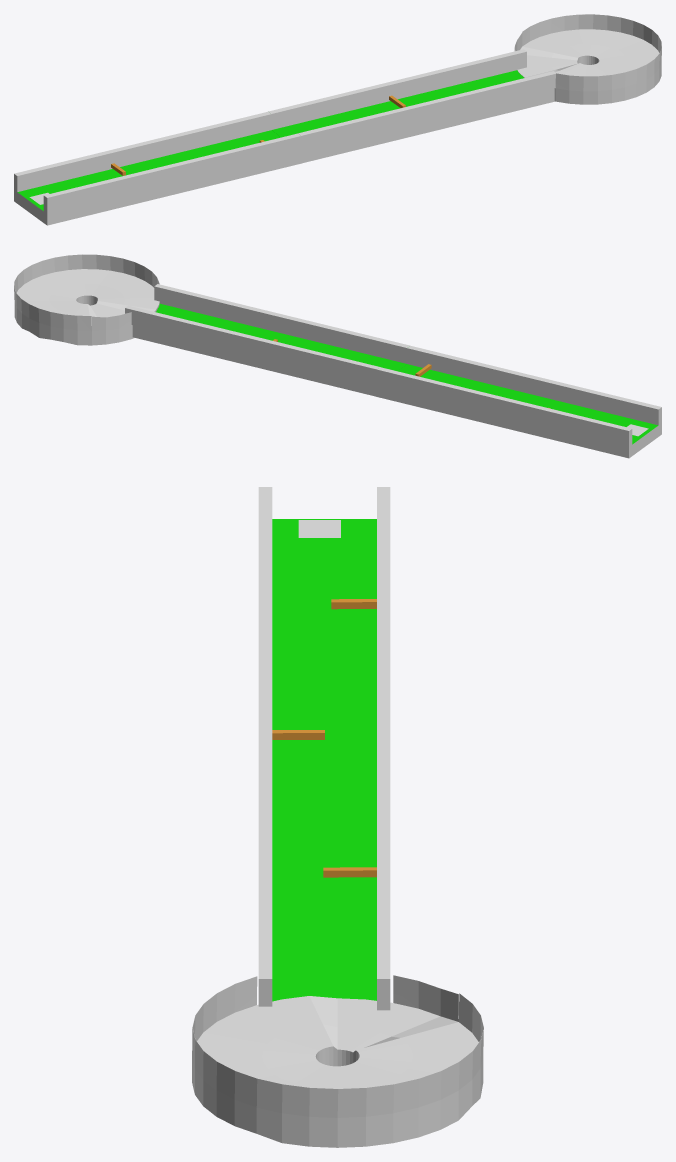
The model's file is Piste.4.fbx.
3 renders of one model, top to bottom at view 1: azimuth 30°, elevation 25°; view 2: azimuth 150°, elevation 25°; view 3: azimuth 270°, elevation 25°, orthographic. The views are drawn at different scales.
Parts seen in each view (by area): view 1: Cube.001, Cube, Cylinder; view 2: Cube.001, Cube, Cylinder; view 3: Cylinder, Cube, Cube.001.
Part boxes in pixels (x1,y1,x2,y2): Cube.001: (14, 111, 302, 225); Cube: (268, 49, 555, 162); Cylinder: (514, 14, 661, 104); Cube.001: (377, 345, 661, 458); Cube: (125, 284, 409, 396); Cylinder: (14, 254, 159, 345); Cylinder: (192, 975, 483, 1147); Cube: (258, 732, 390, 1010); Cube.001: (258, 487, 390, 764).
Size of the model in its own units: 6757 by 311 by 1380.
